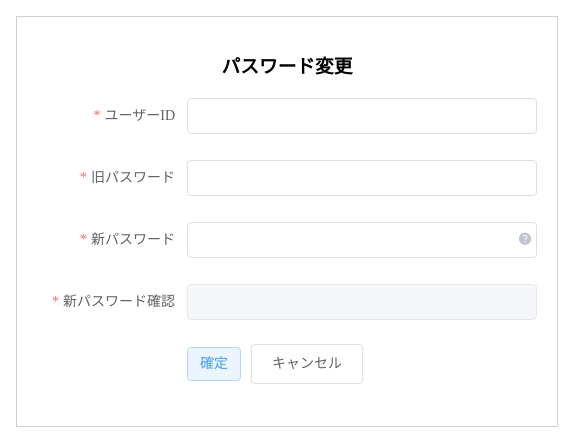
Test: ChangePass画面 › 5.新パスワードと新パスワード確認が一致しないまま、Blurしたら、警告がでる。一致するように入力しBlurしたら、警告が消える
Type "Test1234" into the password field with id "newpass" at (362, 240), box [187,222,537,258]
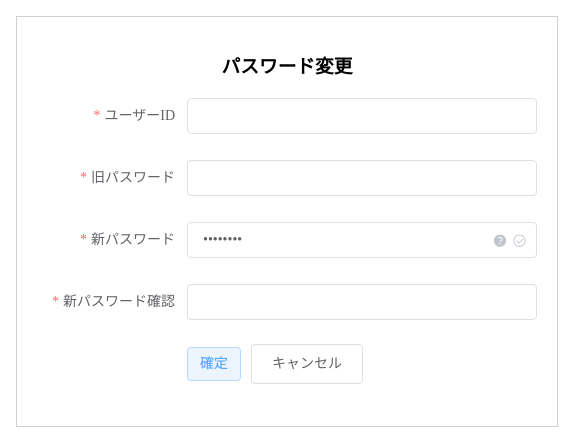
Type "1234Test" into the password field with id "newpass_confirm" at (362, 302), box [187,284,537,320]
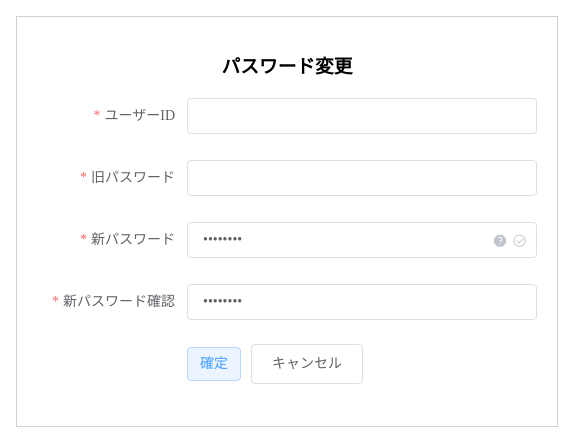
Leave the password field with id "newpass_confirm", box [187,284,537,320]
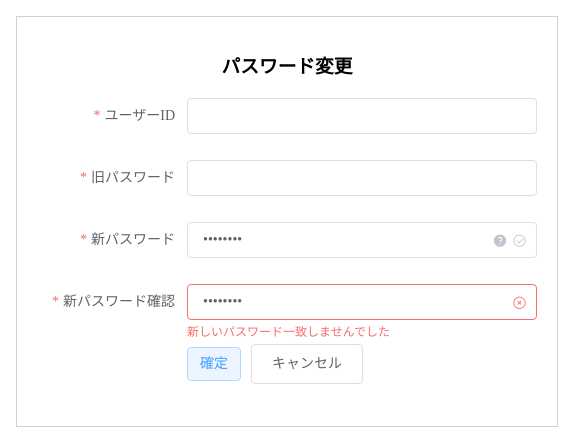
Check: the text "新しいパスワード一致しませんでした" is shown, box [187,322,390,338]
